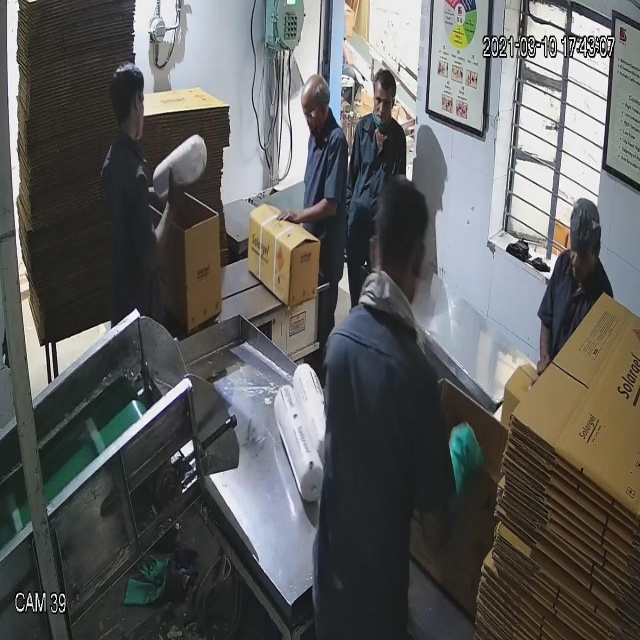Guantes: (438, 409, 488, 501)
Sin_guantes: (133, 165, 201, 269), (272, 185, 342, 244)
